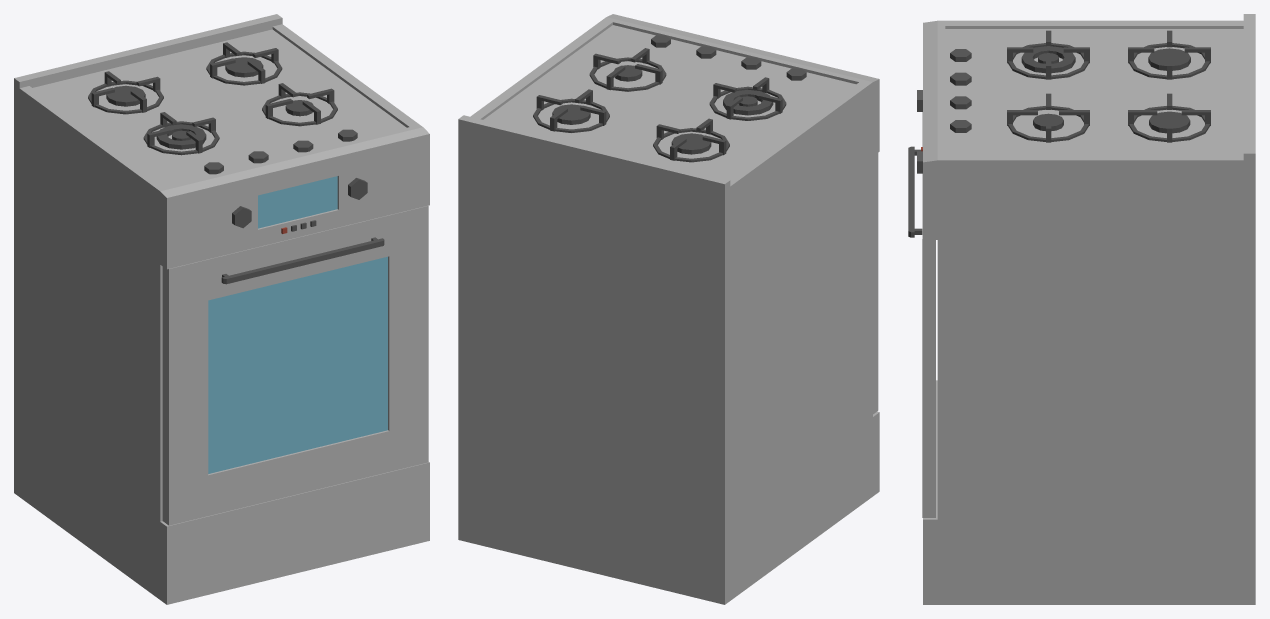
The model's file is Oven_01.fbx.
The picture shows the model from 3 angles, left to right: view 1: azimuth 30°, elevation 25°; view 2: azimuth 150°, elevation 25°; view 3: azimuth 270°, elevation 25°; orthographic projection. The views are drawn at different scales.
Visible parts, largest first — view 1: Oven_01, Oven_01_2; view 2: Oven_01, Oven_01_2; view 3: Oven_01, Oven_01_2.
Boxes of the visible parts, x1,y1,x2,y2 form: Oven_01: [14, 14, 429, 604]; Oven_01_2: [162, 205, 428, 525]; Oven_01: [458, 14, 879, 604]; Oven_01_2: [873, 153, 878, 414]; Oven_01: [917, 14, 1255, 604]; Oven_01_2: [908, 112, 935, 517].
Size of the model in its own units: 60 by 91.29 by 63.03.
